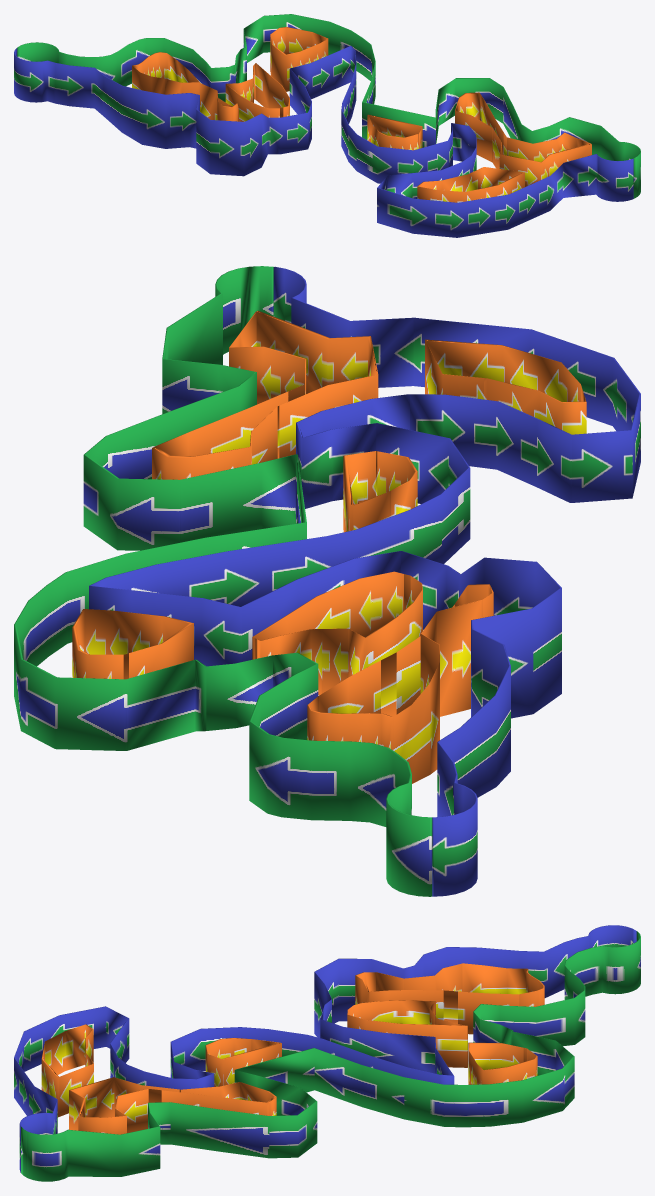
File: Track.fbx
3 renders of one model, top to bottom at view 1: azimuth 30°, elevation 25°; view 2: azimuth 150°, elevation 25°; view 3: azimuth 270°, elevation 25°, orthographic. The views are drawn at different scales.
Visible parts, largest first — view 1: FullLeft, FullRight, SecondSplit, FirstSplit, FourthShortCut, FirstShortCut, SecondShortCut, ThirdShortCut; view 2: FullLeft, FullRight, SecondSplit, FirstSplit, FirstShortCut, FourthShortCut, SecondShortCut, ThirdShortCut; view 3: FullRight, FullLeft, FirstSplit, SecondSplit, FirstShortCut, FourthShortCut, SecondShortCut, ThirdShortCut.
Part boxes in pixels (<box>): FullLeft: <box>14,46,633,237</box>; FullRight: <box>17,14,640,198</box>; SecondSplit: <box>455,92,591,186</box>; FirstSplit: <box>132,52,238,121</box>; FourthShortCut: <box>417,167,524,202</box>; FirstShortCut: <box>225,63,289,121</box>; SecondShortCut: <box>270,27,328,91</box>; ThirdShortCut: <box>367,114,422,150</box>; FullLeft: <box>89,266,640,896</box>; FullRight: <box>14,266,432,896</box>; SecondSplit: <box>152,310,378,479</box>; FirstSplit: <box>307,584,493,783</box>; FirstShortCut: <box>252,571,422,695</box>; FourthShortCut: <box>425,339,586,434</box>; SecondShortCut: <box>72,609,193,679</box>; ThirdShortCut: <box>343,451,417,532</box>; FullRight: <box>21,931,640,1181</box>; FullLeft: <box>14,925,636,1172</box>; FirstSplit: <box>355,963,544,1034</box>; SecondSplit: <box>69,1077,276,1134</box>; FirstShortCut: <box>347,1000,467,1067</box>; FourthShortCut: <box>41,1024,93,1117</box>; SecondShortCut: <box>468,1042,537,1084</box>; ThirdShortCut: <box>205,1038,281,1086</box>.
Bounding box in the file's own units: 9.7 × 1.34 × 12.23.
